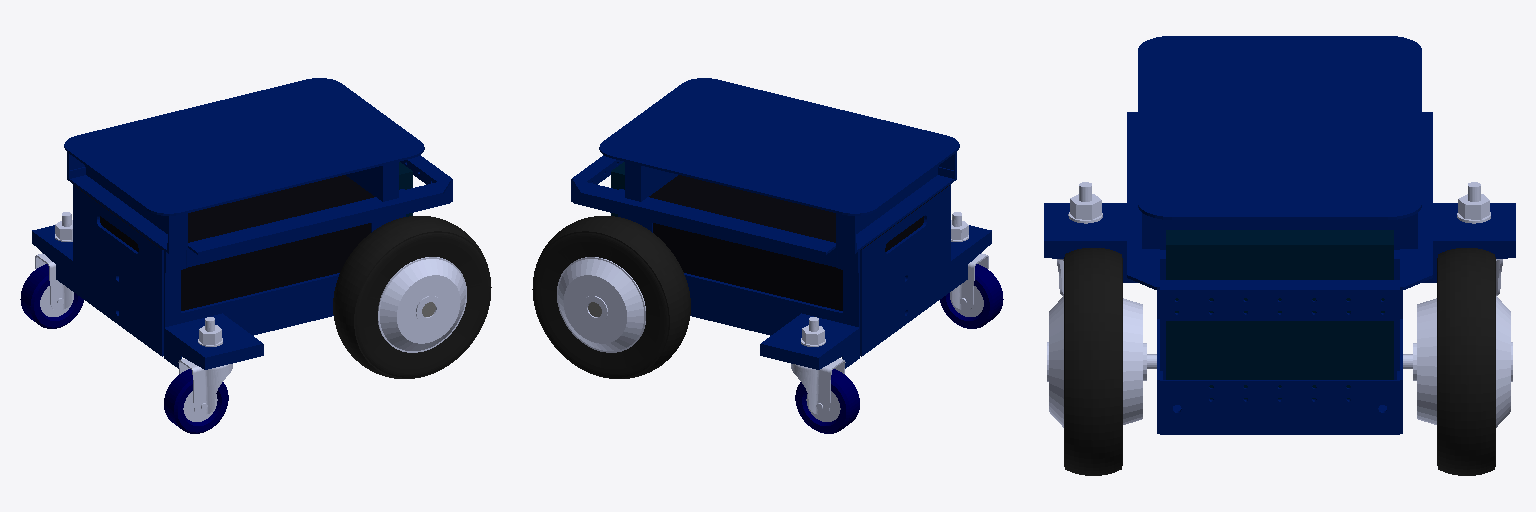
robot.urdf — magni:
<?xml version="1.0" ?>
<!-- =================================================================================== -->
<!-- |    This document was autogenerated by xacro from magni.urdf.xacro               | -->
<!-- |    EDITING THIS FILE BY HAND IS NOT RECOMMENDED                                 | -->
<!-- =================================================================================== -->
<robot name="magni">
  <transmission name="left_wheel_transmission">
    <type>transmission_interface/SimpleTransmission</type>
    <joint name="left_wheel_joint">
      <hardwareInterface>hardware_interface/VelocityJointInterface</hardwareInterface>
    </joint>
    <actuator name="left_wheel_actuator">
      <mechanicalReduction>1</mechanicalReduction>
      <hardwareInterface>VelocityJointInterface</hardwareInterface>
    </actuator>
  </transmission>
  <transmission name="right_wheel_transmission">
    <type>transmission_interface/SimpleTransmission</type>
    <joint name="right_wheel_joint">
      <hardwareInterface>hardware_interface/VelocityJointInterface</hardwareInterface>
    </joint>
    <actuator name="right_wheel_actuator">
      <mechanicalReduction>1</mechanicalReduction>
      <hardwareInterface>VelocityJointInterface</hardwareInterface>
    </actuator>
  </transmission>
  <gazebo>
    <plugin filename="libgazebo_ros_control.so" name="gazebo_ros_control">
      <legacyModeNS>true</legacyModeNS>
    </plugin>
  </gazebo>
  <gazebo>
    <plugin filename="libgazebo_ros_p3d.so" name="gazebo_ros_p3d">
      <updateRate>100</updateRate>
      <bodyName>base_footprint</bodyName>
      <topicName>exact_pose</topicName>
      <frameName>map</frameName>
    </plugin>
  </gazebo>
  <gazebo reference="left_wheel">
    <mu1>1.0</mu1>
    <mu2>1.0</mu2>
    <fdir1>0 0 1</fdir1>
    <minDepth>0.005</minDepth>
    <kp>1e8</kp>
  </gazebo>
  <gazebo reference="right_wheel">
    <mu1>1.0</mu1>
    <mu2>1.0</mu2>
    <fdir1>0 0 1</fdir1>
    <minDepth>0.005</minDepth>
    <kp>1e8</kp>
  </gazebo>
  <gazebo reference="left_caster_wheel">
    <mu1>0.0</mu1>
    <mu2>0.0</mu2>
    <minDepth>0.005</minDepth>
    <kp>1e8</kp>
  </gazebo>
  <gazebo reference="right_caster_wheel">
    <mu1>0.0</mu1>
    <mu2>0.0</mu2>
    <minDepth>0.005</minDepth>
    <kp>1e8</kp>
  </gazebo>
  <!-- see https://secure.wikimedia.org/wikipedia/en/wiki/List_of_moment_of_inertia_tensors -->
  <!-- Robot base_link -->
  <link name="base_link">
    <visual>
      <origin rpy="0 0 0" xyz="-0.11 0 -0.029000000000000012"/>
      <geometry>
        <mesh filename="package://magni_description/meshes/magni_body.dae"/>
      </geometry>
    </visual>
    <visual>
      <origin rpy="0 0 3.141592653589793" xyz="-0.279 0.17 -0.010000000000000009"/>
      <geometry>
        <mesh filename="package://magni_description/meshes/caster_wheel.dae"/>
      </geometry>
    </visual>
    <visual>
      <origin rpy="0 0 3.141592653589793" xyz="-0.279 -0.17 -0.010000000000000009"/>
      <geometry>
        <mesh filename="package://magni_description/meshes/caster_wheel.dae"/>
      </geometry>
    </visual>
    <collision>
      <origin rpy="0 0 0" xyz="-0.11 0 0.05099999999999999"/>
      <geometry>
        <box size="0.398 0.268 0.160"/>
      </geometry>
    </collision>
    <collision>
      <origin rpy="0 0 0" xyz="-0.136 0 0.148"/>
      <geometry>
        <box size="0.375 0.268 0.034"/>
      </geometry>
    </collision>
    <collision>
      <origin rpy="0 0 0" xyz="-0.279 0.169 0.0059999999999999915"/>
      <geometry>
        <box size="0.1 0.07 0.07"/>
      </geometry>
    </collision>
    <collision>
      <origin rpy="0 0 0" xyz="-0.279 -0.169 0.0059999999999999915"/>
      <geometry>
        <box size="0.1 0.07 0.07"/>
      </geometry>
    </collision>
    <inertial>
      <mass value="10.0"/>
      <origin rpy="0 0 0" xyz="-0.15 0 0.03"/>
      <inertia ixx="0.059450809553" ixy="0.0" ixz="0.0" iyy="0.150753273032" iyz="0.0" izz="0.17270409758500002"/>
    </inertial>
  </link>
  <!-- Fixed offset from the floor to the center of the wheels -->
  <link name="base_footprint"/>
  <joint name="base_footprint_joint" type="fixed">
    <parent link="base_footprint"/>
    <child link="base_link"/>
    <origin rpy="0 0 0" xyz="0 0 0.1"/>
  </joint>
  <link name="left_wheel">
    <visual>
      <origin rpy="0 0.0 0" xyz="-0.071 0 0"/>
      <geometry>
        <mesh filename="package://magni_description/meshes/front_wheel.dae"/>
      </geometry>
    </visual>
    <collision>
      <origin rpy="0 1.5707963267948966 0" xyz="0 0 0"/>
      <geometry>
        <cylinder length="0.05" radius="0.1"/>
      </geometry>
    </collision>
    <collision>
      <origin rpy="0 1.5707963267948966 0" xyz="0.033 0 0"/>
      <geometry>
        <cylinder length="0.016" radius="0.064"/>
      </geometry>
    </collision>
    <inertial>
      <mass value="3.34"/>
      <origin rpy="0 1.5707963267948966 0" xyz="0 0 0"/>
      <inertia ixx="0.009045829715000002" ixy="0.0" ixz="0.0" iyy="0.009045829715000002" iyz="0.0" izz="0.016700000000000003"/>
    </inertial>
  </link>
  <joint name="left_wheel_joint" type="continuous">
    <axis rpy="0 0 0" xyz="1 0 0"/>
    <parent link="base_link"/>
    <child link="left_wheel"/>
    <origin rpy="0 0 1.5707963267948966" xyz="0 0.163 0"/>
  </joint>
  <link name="right_wheel">
    <visual>
      <origin rpy="0 -3.141592653589793 0" xyz="0.071 0 0"/>
      <geometry>
        <mesh filename="package://magni_description/meshes/front_wheel.dae"/>
      </geometry>
    </visual>
    <collision>
      <origin rpy="0 1.5707963267948966 0" xyz="0 0 0"/>
      <geometry>
        <cylinder length="0.05" radius="0.1"/>
      </geometry>
    </collision>
    <collision>
      <origin rpy="0 1.5707963267948966 0" xyz="-0.033 0 0"/>
      <geometry>
        <cylinder length="0.016" radius="0.064"/>
      </geometry>
    </collision>
    <inertial>
      <mass value="3.34"/>
      <origin rpy="0 1.5707963267948966 0" xyz="0 0 0"/>
      <inertia ixx="0.009045829715000002" ixy="0.0" ixz="0.0" iyy="0.009045829715000002" iyz="0.0" izz="0.016700000000000003"/>
    </inertial>
  </link>
  <joint name="right_wheel_joint" type="continuous">
    <axis rpy="0 0 0" xyz="1 0 0"/>
    <parent link="base_link"/>
    <child link="right_wheel"/>
    <origin rpy="0 0 1.5707963267948966" xyz="0 -0.163 0"/>
  </joint>
  <link name="left_caster_wheel">
    <collision>
      <origin rpy="0 0 0" xyz="-0.3 0.169 -0.060000000000000005"/>
      <geometry>
        <sphere radius="0.04"/>
      </geometry>
    </collision>
  </link>
  <joint name="left_caster_wheel_joint" type="fixed">
    <parent link="base_link"/>
    <child link="left_caster_wheel"/>
  </joint>
  <link name="right_caster_wheel">
    <collision>
      <origin rpy="0 0 0" xyz="-0.3 -0.169 -0.060000000000000005"/>
      <geometry>
        <sphere radius="0.04"/>
      </geometry>
    </collision>
  </link>
  <joint name="right_caster_wheel_joint" type="fixed">
    <parent link="base_link"/>
    <child link="right_caster_wheel"/>
  </joint>
  <joint name="sonar_0_joint" type="fixed">
    <parent link="base_link"/>
    <child link="sonar_0"/>
    <origin rpy="0 0 -1.5707963267948966" xyz="0.01 -0.14 0.15"/>
  </joint>
  <link name="sonar_0">
    <visual>
      <origin rpy="1.5707963267948966 0 1.5707963267948966" xyz="-0.006 0 0"/>
      <geometry>
        <mesh filename="package://magni_description/meshes/sensors/sonar_hc-sr04.dae"/>
      </geometry>
    </visual>
    <!-- removing colisions from sonars solves issue https://github.com/UbiquityRobotics/magni_robot/issues/200 -->
    <!-- <collision>
        <origin xyz="0 0 0" rpy="0 0 0" />
        <geometry>
          <box size="0.02 0.044 0.021"/>
        </geometry>
      </collision> -->
  </link>
  <!-- Gazebo sensor plugin -->
  <gazebo reference="sonar_0">
    <sensor name="sonar_0_sensor" type="ray">
      <visualize>false</visualize>
      <update_rate>5</update_rate>
      <ray>
        <scan>
          <horizontal>
            <samples>5</samples>
            <resolution>1.0</resolution>
            <min_angle>-0.24</min_angle>
            <max_angle>0.24</max_angle>
          </horizontal>
          <vertical>
            <samples>5</samples>
            <resolution>1.0</resolution>
            <min_angle>-0.05</min_angle>
            <max_angle>0.05</max_angle>
          </vertical>
        </scan>
        <range>
          <min>0.02</min>
          <max>4.0</max>
          <resolution>0.01</resolution>
        </range>
      </ray>
      <!-- Gazebo-ROS interface plugin -->
      <plugin filename="libgazebo_ros_range.so" name="gazebo_ros_range">
        <gaussianNoise>0.015</gaussianNoise>
        <alwaysOn>true</alwaysOn>
        <updateRate>5</updateRate>
        <topicName>/pi_sonar/sonar_0</topicName>
        <frameName>sonar_0</frameName>
        <fov>0.5</fov>
        <radiation>ultrasound</radiation>
      </plugin>
    </sensor>
  </gazebo>
  <joint name="sonar_1_joint" type="fixed">
    <parent link="base_link"/>
    <child link="sonar_1"/>
    <origin rpy="0 0 0.785" xyz="0.08 -0.07 0.15"/>
  </joint>
  <link name="sonar_1">
    <visual>
      <origin rpy="1.5707963267948966 0 1.5707963267948966" xyz="-0.006 0 0"/>
      <geometry>
        <mesh filename="package://magni_description/meshes/sensors/sonar_hc-sr04.dae"/>
      </geometry>
    </visual>
    <!-- removing colisions from sonars solves issue https://github.com/UbiquityRobotics/magni_robot/issues/200 -->
    <!-- <collision>
        <origin xyz="0 0 0" rpy="0 0 0" />
        <geometry>
          <box size="0.02 0.044 0.021"/>
        </geometry>
      </collision> -->
  </link>
  <!-- Gazebo sensor plugin -->
  <gazebo reference="sonar_1">
    <sensor name="sonar_1_sensor" type="ray">
      <visualize>false</visualize>
      <update_rate>5</update_rate>
      <ray>
        <scan>
          <horizontal>
            <samples>5</samples>
            <resolution>1.0</resolution>
            <min_angle>-0.24</min_angle>
            <max_angle>0.24</max_angle>
          </horizontal>
          <vertical>
            <samples>5</samples>
            <resolution>1.0</resolution>
            <min_angle>-0.05</min_angle>
            <max_angle>0.05</max_angle>
          </vertical>
        </scan>
        <range>
          <min>0.02</min>
          <max>4.0</max>
          <resolution>0.01</resolution>
        </range>
      </ray>
      <!-- Gazebo-ROS interface plugin -->
      <plugin filename="libgazebo_ros_range.so" name="gazebo_ros_range">
        <gaussianNoise>0.015</gaussianNoise>
        <alwaysOn>true</alwaysOn>
        <updateRate>5</updateRate>
        <topicName>/pi_sonar/sonar_1</topicName>
        <frameName>sonar_1</frameName>
        <fov>0.5</fov>
        <radiation>ultrasound</radiation>
      </plugin>
    </sensor>
  </gazebo>
  <joint name="sonar_2_joint" type="fixed">
    <parent link="base_link"/>
    <child link="sonar_2"/>
    <origin rpy="0 0 -0.785" xyz="0.08 -0.01 0.15"/>
  </joint>
  <link name="sonar_2">
    <visual>
      <origin rpy="1.5707963267948966 0 1.5707963267948966" xyz="-0.006 0 0"/>
      <geometry>
        <mesh filename="package://magni_description/meshes/sensors/sonar_hc-sr04.dae"/>
      </geometry>
    </visual>
    <!-- removing colisions from sonars solves issue https://github.com/UbiquityRobotics/magni_robot/issues/200 -->
    <!-- <collision>
        <origin xyz="0 0 0" rpy="0 0 0" />
        <geometry>
          <box size="0.02 0.044 0.021"/>
        </geometry>
      </collision> -->
  </link>
  <!-- Gazebo sensor plugin -->
  <gazebo reference="sonar_2">
    <sensor name="sonar_2_sensor" type="ray">
      <visualize>false</visualize>
      <update_rate>5</update_rate>
      <ray>
        <scan>
          <horizontal>
            <samples>5</samples>
            <resolution>1.0</resolution>
            <min_angle>-0.24</min_angle>
            <max_angle>0.24</max_angle>
          </horizontal>
          <vertical>
            <samples>5</samples>
            <resolution>1.0</resolution>
            <min_angle>-0.05</min_angle>
            <max_angle>0.05</max_angle>
          </vertical>
        </scan>
        <range>
          <min>0.02</min>
          <max>4.0</max>
          <resolution>0.01</resolution>
        </range>
      </ray>
      <!-- Gazebo-ROS interface plugin -->
      <plugin filename="libgazebo_ros_range.so" name="gazebo_ros_range">
        <gaussianNoise>0.015</gaussianNoise>
        <alwaysOn>true</alwaysOn>
        <updateRate>5</updateRate>
        <topicName>/pi_sonar/sonar_2</topicName>
        <frameName>sonar_2</frameName>
        <fov>0.5</fov>
        <radiation>ultrasound</radiation>
      </plugin>
    </sensor>
  </gazebo>
  <joint name="sonar_3_joint" type="fixed">
    <parent link="base_link"/>
    <child link="sonar_3"/>
    <origin rpy="0 0 0" xyz="0.08 0.04 0.15"/>
  </joint>
  <link name="sonar_3">
    <visual>
      <origin rpy="1.5707963267948966 0 1.5707963267948966" xyz="-0.006 0 0"/>
      <geometry>
        <mesh filename="package://magni_description/meshes/sensors/sonar_hc-sr04.dae"/>
      </geometry>
    </visual>
    <!-- removing colisions from sonars solves issue https://github.com/UbiquityRobotics/magni_robot/issues/200 -->
    <!-- <collision>
        <origin xyz="0 0 0" rpy="0 0 0" />
        <geometry>
          <box size="0.02 0.044 0.021"/>
        </geometry>
      </collision> -->
  </link>
  <!-- Gazebo sensor plugin -->
  <gazebo reference="sonar_3">
    <sensor name="sonar_3_sensor" type="ray">
      <visualize>false</visualize>
      <update_rate>5</update_rate>
      <ray>
        <scan>
          <horizontal>
            <samples>5</samples>
            <resolution>1.0</resolution>
            <min_angle>-0.24</min_angle>
            <max_angle>0.24</max_angle>
          </horizontal>
          <vertical>
            <samples>5</samples>
            <resolution>1.0</resolution>
            <min_angle>-0.05</min_angle>
            <max_angle>0.05</max_angle>
          </vertical>
        </scan>
        <range>
          <min>0.02</min>
          <max>4.0</max>
          <resolution>0.01</resolution>
        </range>
      </ray>
      <!-- Gazebo-ROS interface plugin -->
      <plugin filename="libgazebo_ros_range.so" name="gazebo_ros_range">
        <gaussianNoise>0.015</gaussianNoise>
        <alwaysOn>true</alwaysOn>
        <updateRate>5</updateRate>
        <topicName>/pi_sonar/sonar_3</topicName>
        <frameName>sonar_3</frameName>
        <fov>0.5</fov>
        <radiation>ultrasound</radiation>
      </plugin>
    </sensor>
  </gazebo>
  <joint name="sonar_4_joint" type="fixed">
    <parent link="base_link"/>
    <child link="sonar_4"/>
    <origin rpy="0 0 1.5707963267948966" xyz="0.01 0.14 0.15"/>
  </joint>
  <link name="sonar_4">
    <visual>
      <origin rpy="1.5707963267948966 0 1.5707963267948966" xyz="-0.006 0 0"/>
      <geometry>
        <mesh filename="package://magni_description/meshes/sensors/sonar_hc-sr04.dae"/>
      </geometry>
    </visual>
    <!-- removing colisions from sonars solves issue https://github.com/UbiquityRobotics/magni_robot/issues/200 -->
    <!-- <collision>
        <origin xyz="0 0 0" rpy="0 0 0" />
        <geometry>
          <box size="0.02 0.044 0.021"/>
        </geometry>
      </collision> -->
  </link>
  <!-- Gazebo sensor plugin -->
  <gazebo reference="sonar_4">
    <sensor name="sonar_4_sensor" type="ray">
      <visualize>false</visualize>
      <update_rate>5</update_rate>
      <ray>
        <scan>
          <horizontal>
            <samples>5</samples>
            <resolution>1.0</resolution>
            <min_angle>-0.24</min_angle>
            <max_angle>0.24</max_angle>
          </horizontal>
          <vertical>
            <samples>5</samples>
            <resolution>1.0</resolution>
            <min_angle>-0.05</min_angle>
            <max_angle>0.05</max_angle>
          </vertical>
        </scan>
        <range>
          <min>0.02</min>
          <max>4.0</max>
          <resolution>0.01</resolution>
        </range>
      </ray>
      <!-- Gazebo-ROS interface plugin -->
      <plugin filename="libgazebo_ros_range.so" name="gazebo_ros_range">
        <gaussianNoise>0.015</gaussianNoise>
        <alwaysOn>true</alwaysOn>
        <updateRate>5</updateRate>
        <topicName>/pi_sonar/sonar_4</topicName>
        <frameName>sonar_4</frameName>
        <fov>0.5</fov>
        <radiation>ultrasound</radiation>
      </plugin>
    </sensor>
  </gazebo>
</robot>

--- Render facts (derived) ---
3 views of the same robot in one strip: view 1: azimuth 30°, elevation 25°; view 2: azimuth 150°, elevation 25°; view 3: azimuth 270°, elevation 25° (orthographic).
Model magni with 11 links and 10 joints (2 continuous, 8 fixed), rooted at base_footprint, posed every joint at zero.
Links seen in each view (by area): view 1: base_link, right_wheel; view 2: base_link, left_wheel; view 3: base_link, left_wheel, right_wheel.
Boxes of the visible links, x1,y1,x2,y2 form: base_link: (20, 78, 452, 433); right_wheel: (333, 216, 491, 378); base_link: (571, 78, 1003, 433); left_wheel: (532, 216, 690, 378); base_link: (1044, 36, 1515, 434); left_wheel: (1403, 248, 1512, 475); right_wheel: (1047, 248, 1156, 475).
Size in the robot's own frame: 0.437 by 0.412 by 0.2643 metres.
5 mesh visuals loaded from 4 distinct referenced files (3 Collada DAE); not drawn: 5 (reference not matched to a file when rendering).
